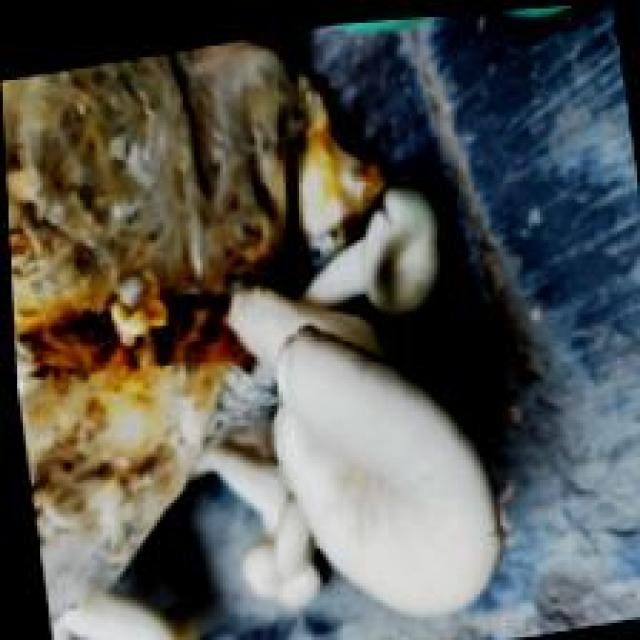chanterelle: (6, 37, 508, 637)
